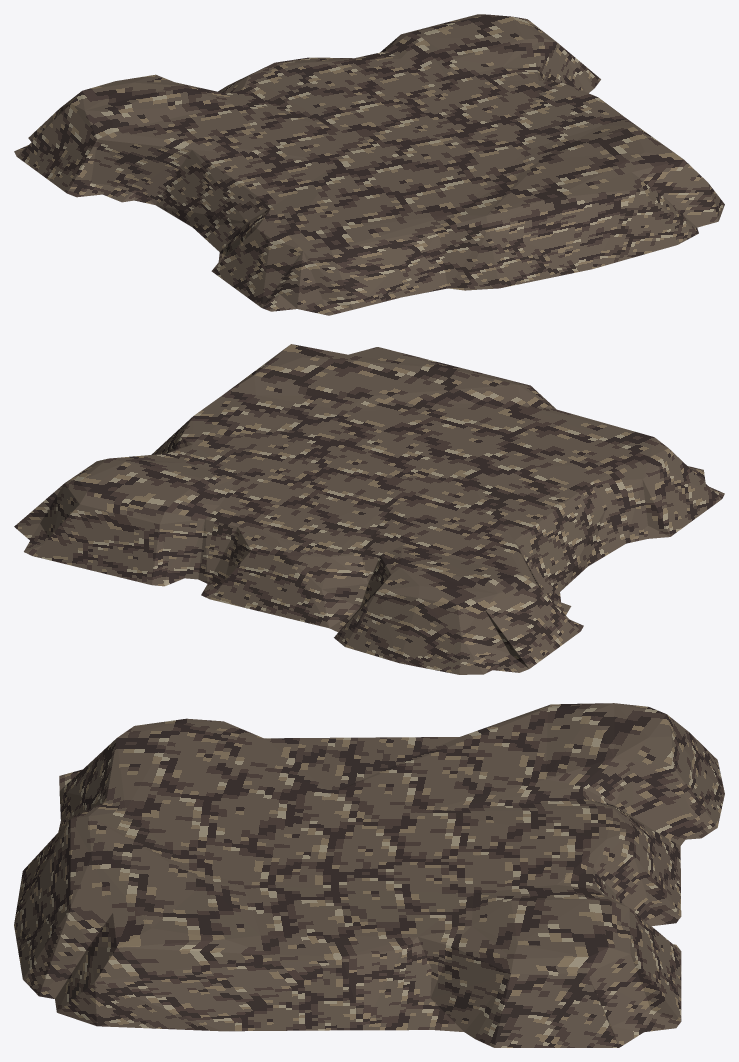
File: CAVE_floor_rockfbx.fbx
The picture shows the model from 3 angles, top to bottom: view 1: azimuth 30°, elevation 25°; view 2: azimuth 150°, elevation 25°; view 3: azimuth 270°, elevation 25°; orthographic projection. The views are drawn at different scales.
Visible parts, largest first — view 1: CAVE:floor_rock; view 2: CAVE:floor_rock; view 3: CAVE:floor_rock.
Boxes of the visible parts, x1,y1,x2,y2 form: CAVE:floor_rock: (14, 14, 724, 315); CAVE:floor_rock: (14, 344, 724, 674); CAVE:floor_rock: (14, 703, 724, 1047).
Size of the model in its own units: 6.68 by 0.6241 by 6.36.
1 material, 1 textured.
